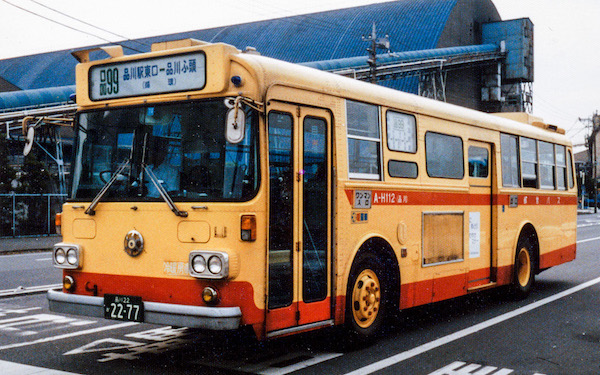destination: (88, 49, 207, 101)
